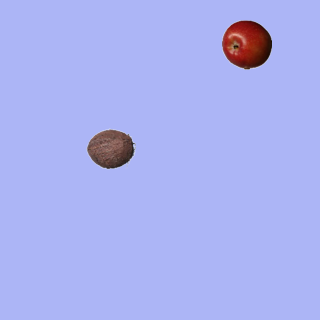Apple Braeburn: (221, 19, 271, 69)
Cocos: (85, 123, 135, 173)
